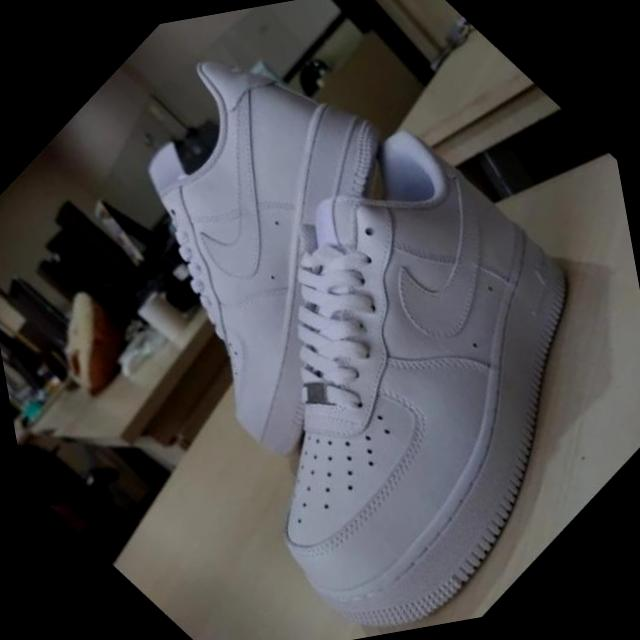nike_original_airforce: (78, 79, 640, 640), (0, 0, 525, 499)
